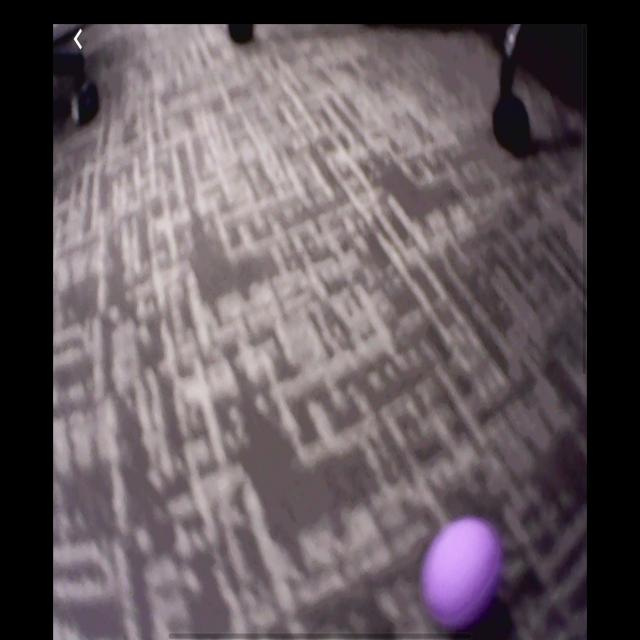ball: (420, 515, 504, 632)
